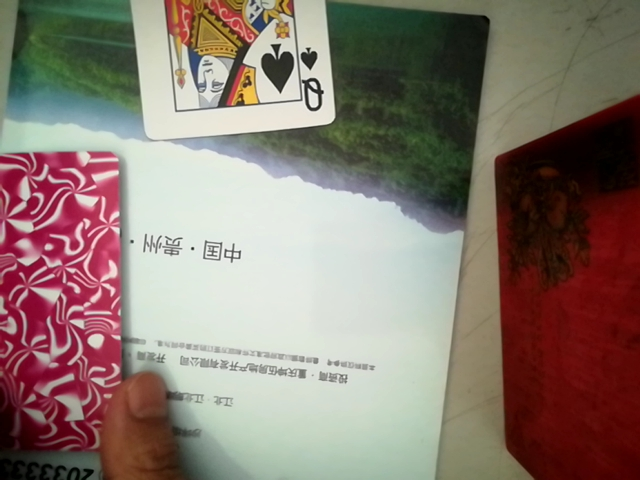ht q: (119, 0, 342, 147)
